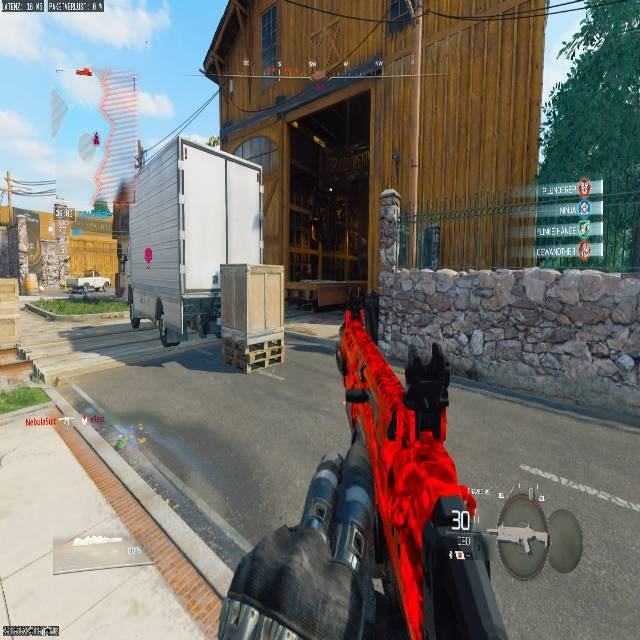player: (374, 188, 405, 274)
